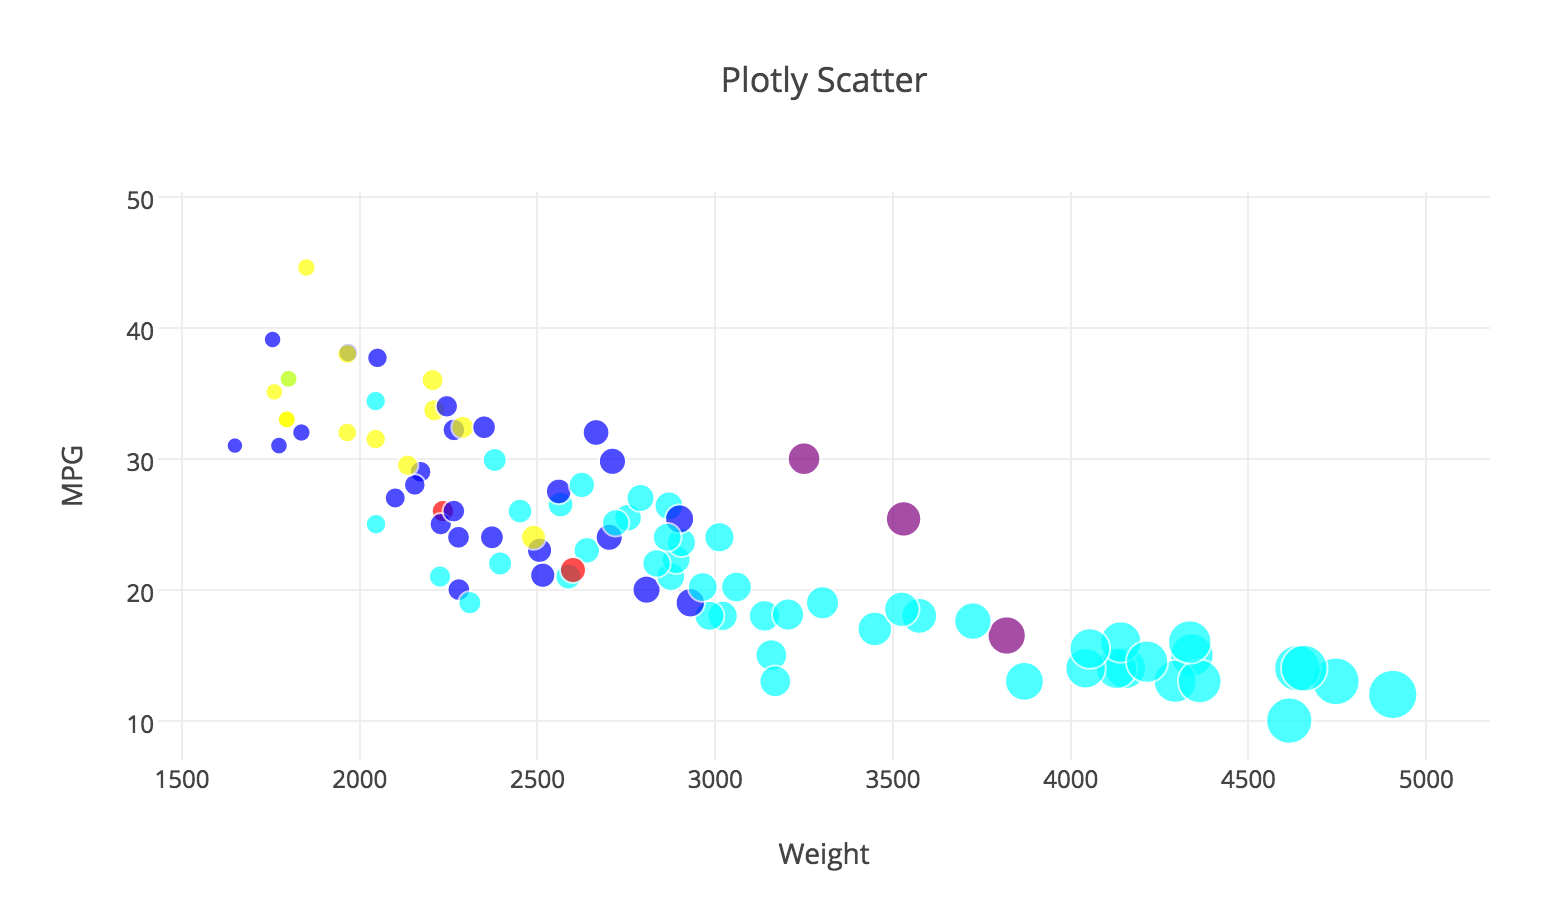

Layout of this report page (visuals, bound fields, positions):
{"tool":"tableau","page":{"name":"Dashboard 1","canvas":[1000,800],"ordinal":0},"visuals":[{"type":"worksheet","title":"Sheet 1","mark":"Circle","rows":["MPG"],"cols":["Weight"],"box":[0,0,840,800]},{"type":"legend","title":"Sheet 1","param":"[textscan.14h8h6g1ua10101g5851s1sy8clt].[none:Manufacturer:nk]","box":[840,0,160,134]},{"type":"legend","title":"Sheet 1","param":"[textscan.14h8h6g1ua10101g5851s1sy8clt].[none:Weight:qk]","box":[840,134,160,110]}]}

Visuals, with their boxes on the page's 1000x800 design canvas (x1, y1, x2, y2). These are canvas units, not pixel positions in the 1554x898 screenshot, which may show the page scaled, cropped or inside an application window:
"Sheet 1" worksheet (Circle marks): (0,0,840,800)
"Sheet 1" legend: (840,0,1000,134)
"Sheet 1" legend: (840,134,1000,244)
